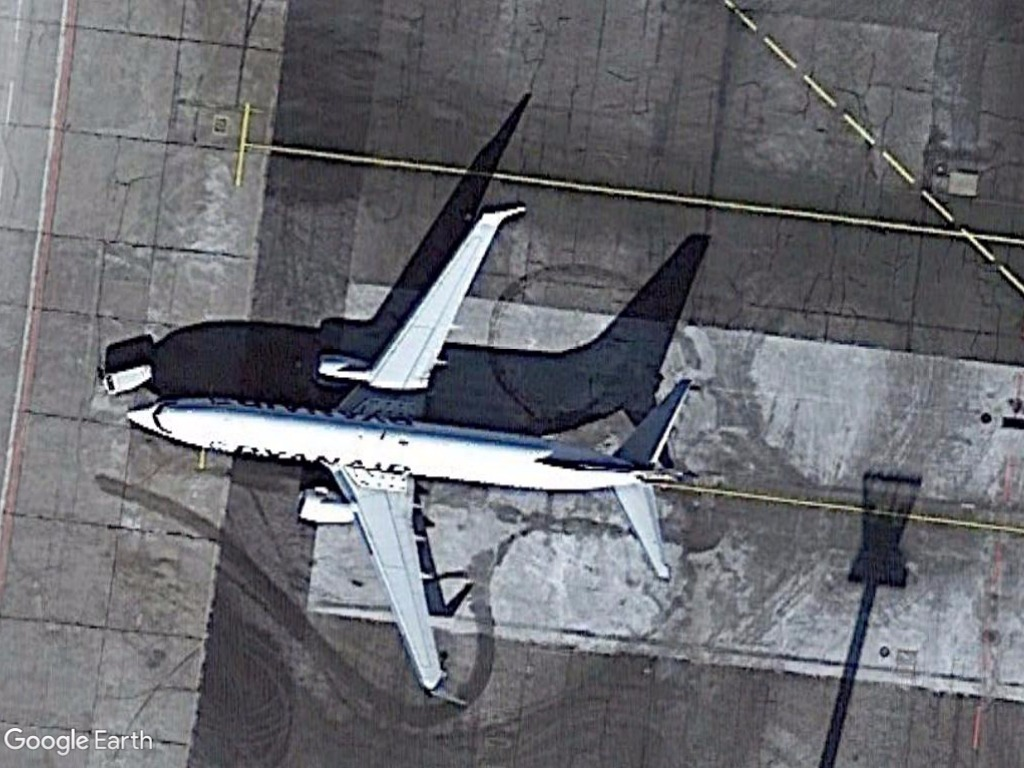airliner: (121, 203, 690, 695)
